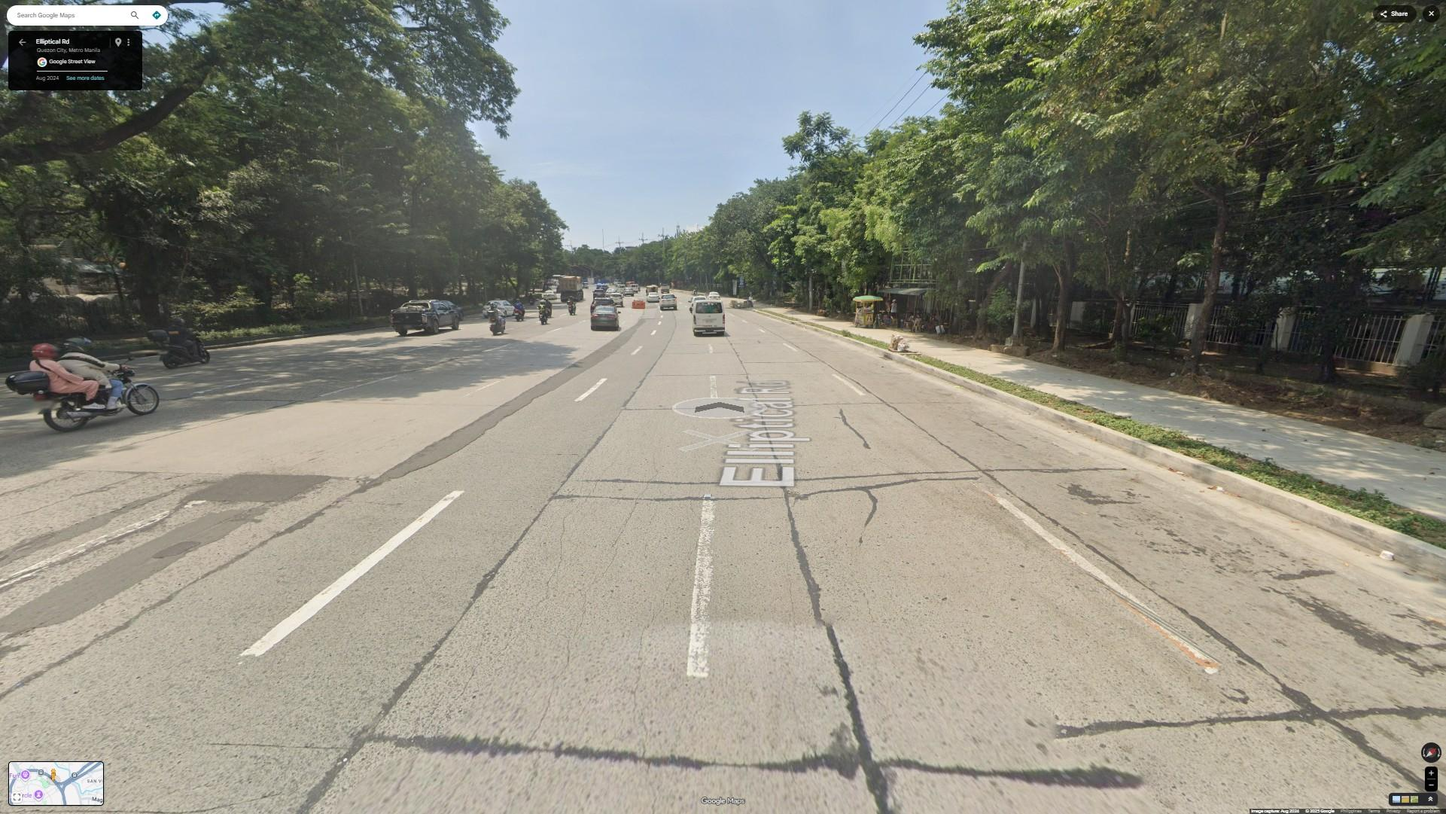pedestrian: (905, 309, 920, 330), (911, 313, 923, 334), (890, 299, 897, 326), (748, 294, 754, 308), (693, 285, 698, 297)
